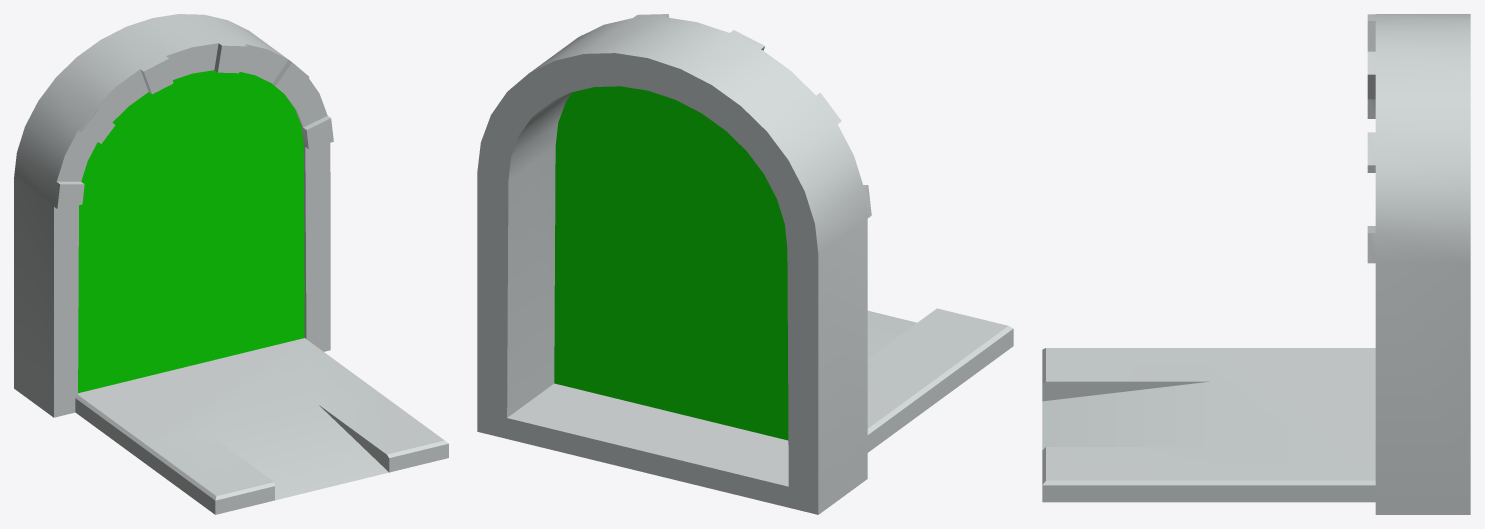
The model's file is TunnelPortal.fbx.
3 views of the same model, side by side, from view 1: azimuth 30°, elevation 25°; view 2: azimuth 150°, elevation 25°; view 3: azimuth 270°, elevation 25° (orthographic). The views are drawn at different scales.
Visible parts, largest first — view 1: PortalDoor, Portal; view 2: PortalDoor, Portal; view 3: PortalDoor.
Part boxes in pixels (left/top/right/bottom): PortalDoor: left=14, top=14, right=448, bottom=514; Portal: left=78, top=70, right=304, bottom=393; PortalDoor: left=477, top=14, right=1013, bottom=514; Portal: left=554, top=86, right=788, bottom=440; PortalDoor: left=1042, top=14, right=1470, bottom=514.
Bounding box in the file's own units: 1525 × 1774 × 1717.
